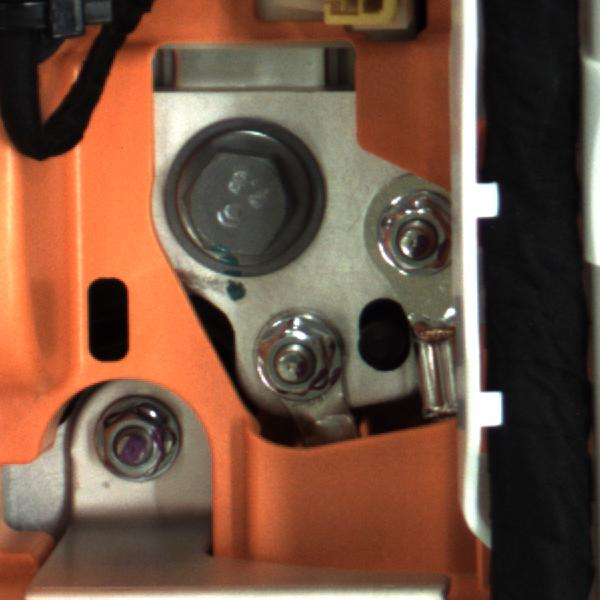nut_b: (163, 124, 315, 271)
screw_s: (86, 398, 184, 489), (366, 191, 462, 283), (242, 315, 345, 400)
